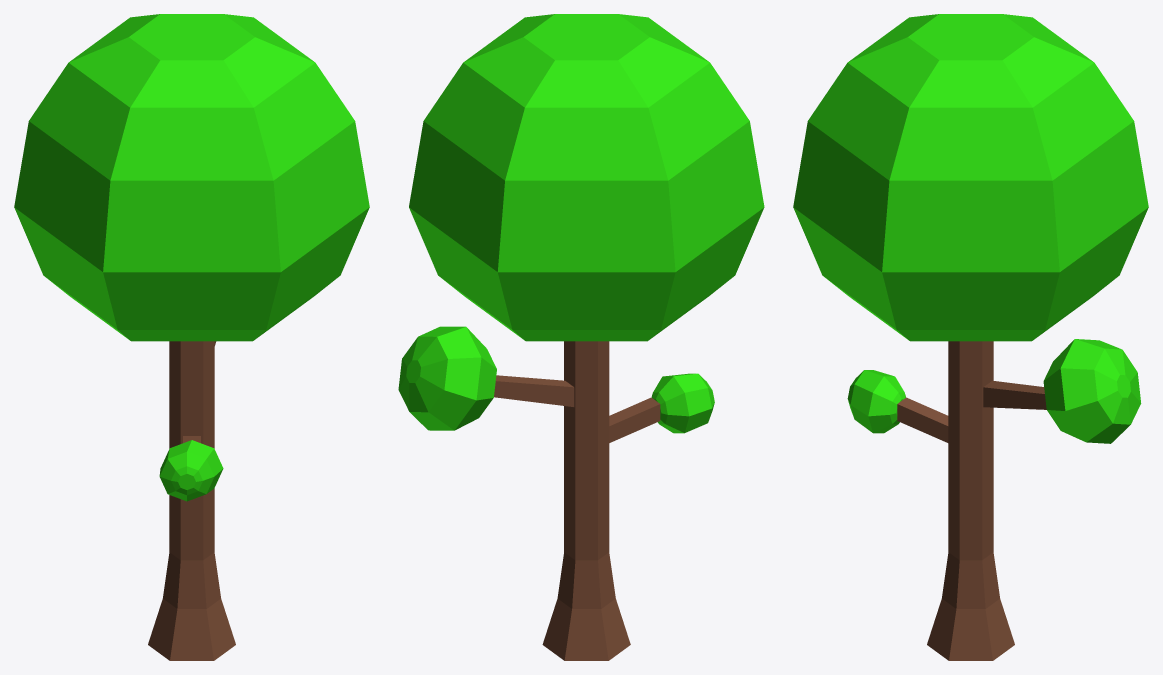
File: Arbol.fbx
3 renders of one model, left to right at view 1: azimuth 30°, elevation 25°; view 2: azimuth 150°, elevation 25°; view 3: azimuth 270°, elevation 25°, orthographic.
Parts seen in each view (by area): view 1: Cylinder; view 2: Cylinder; view 3: Cylinder.
Boxes of the visible parts, box(x1,y1,x2,y2) form: Cylinder: box(14, 14, 369, 660); Cylinder: box(398, 14, 764, 660); Cylinder: box(793, 14, 1148, 660).
Size of the model in its own units: 1366 by 2974 by 1578.
1 material, 1 textured.
